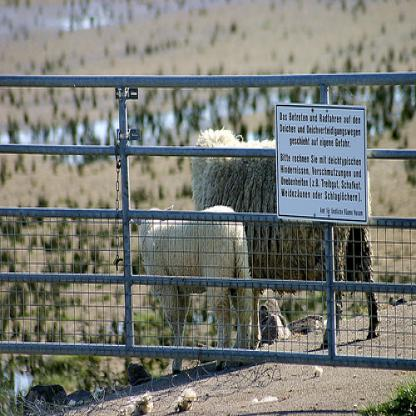sheep: (192, 127, 384, 348), (139, 205, 261, 373)
